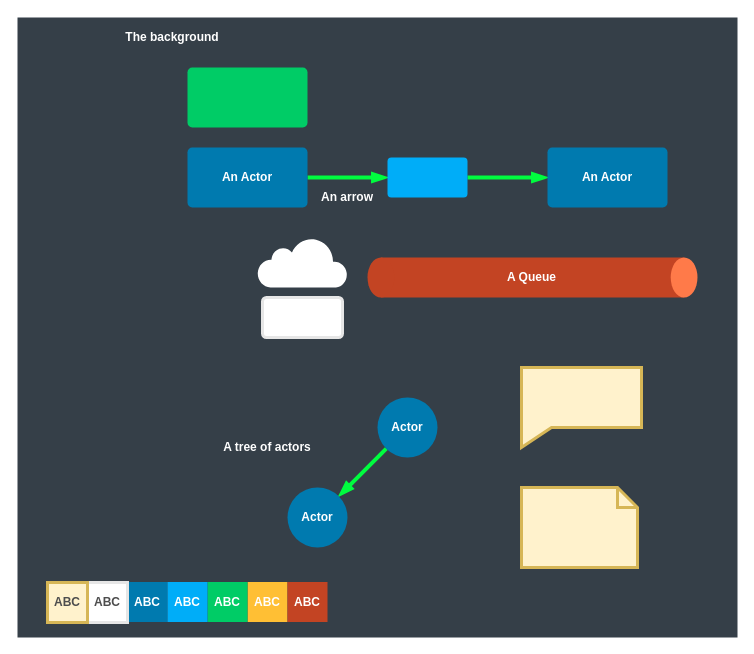
This 754x654 diagram has some shape labels left out. The shapes that lost their labels are listed below. From the top down, each one's centre as x and y in pixels, then its label:
(247,97): Some Action
(427,177): a PID
(302,262): a cloud
(302,317): A Message
(581,407): A Comment
(579,527): A Note
